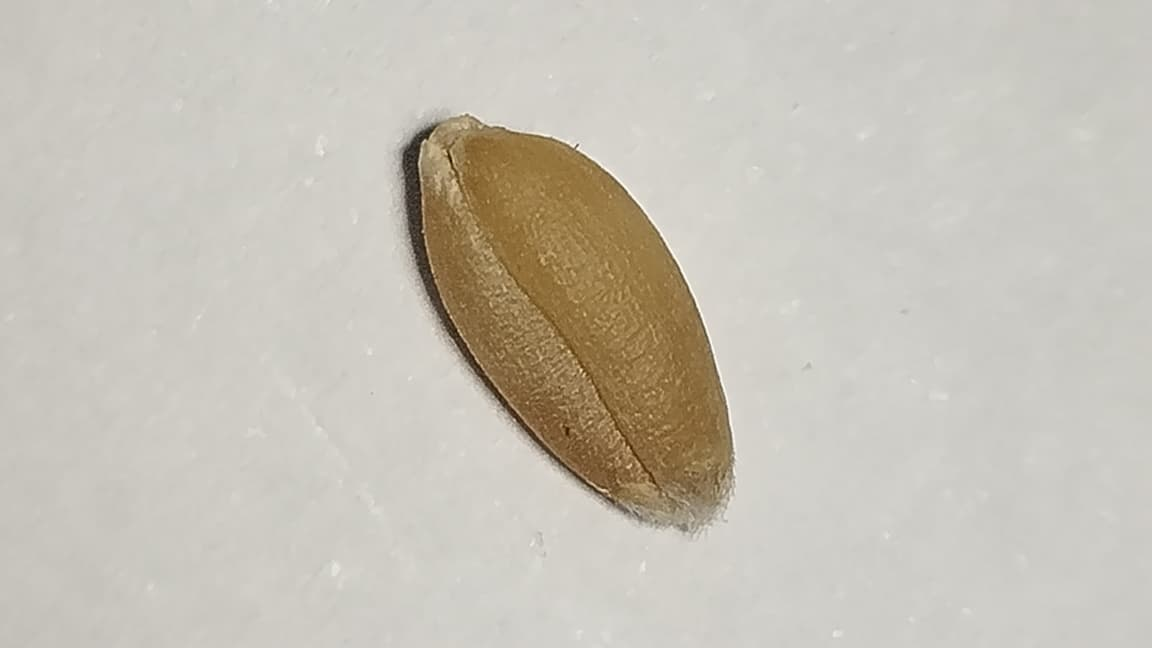healthy: (419, 115, 733, 528)
